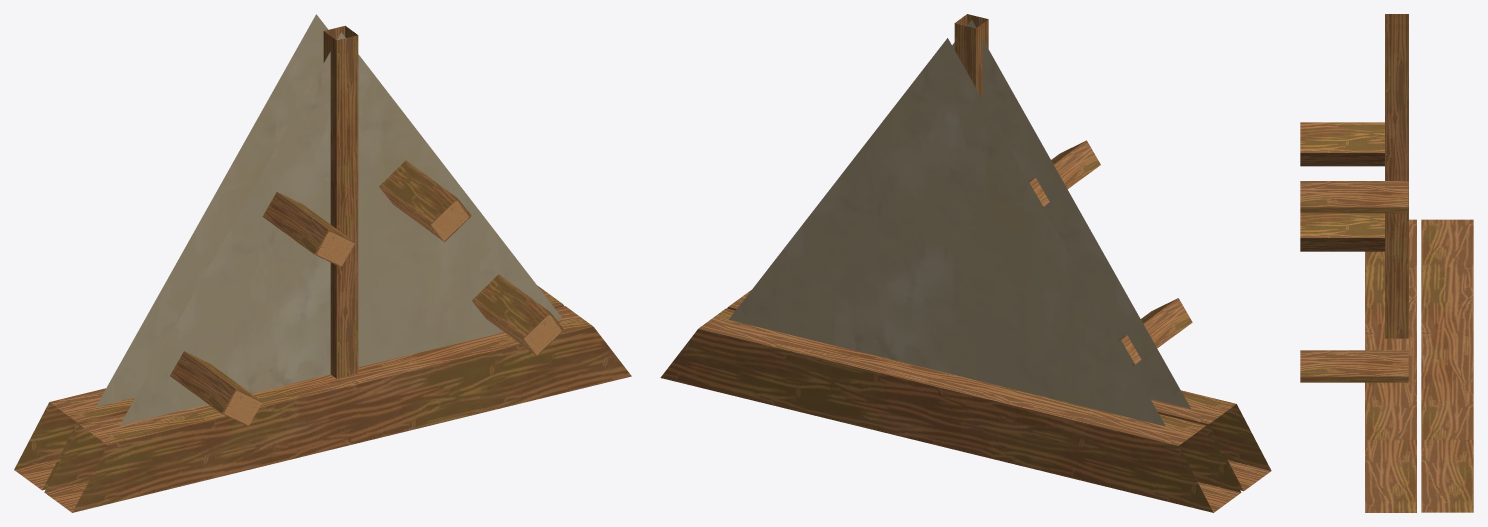
File: roof_front_brick2.glb
3 views of the same model, side by side, from view 1: azimuth 30°, elevation 25°; view 2: azimuth 150°, elevation 25°; view 3: azimuth 270°, elevation 25° (orthographic). The views are drawn at different scales.
Bounding box in the file's own units: 2.61 × 1.77 × 0.7513.
Materials: 2 (2 with a texture image).
